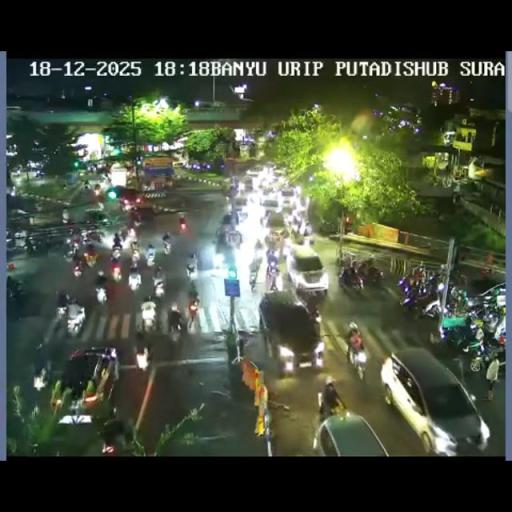Car: (383, 346, 490, 452), (258, 290, 324, 374), (56, 347, 118, 411), (313, 412, 391, 454), (286, 244, 326, 298), (264, 210, 286, 236), (260, 190, 282, 212), (218, 212, 238, 234), (231, 187, 249, 208), (279, 187, 296, 209), (246, 166, 262, 182), (272, 168, 286, 184)
Motorcycle: (88, 279, 198, 344), (74, 226, 170, 286), (400, 273, 442, 317), (462, 329, 504, 372), (100, 418, 132, 454), (318, 392, 348, 422), (347, 341, 367, 379), (339, 266, 364, 294), (448, 286, 470, 316), (66, 305, 86, 336), (463, 300, 491, 322), (362, 264, 385, 289), (266, 248, 279, 289), (140, 303, 157, 333), (214, 232, 232, 259), (6, 275, 25, 300), (186, 297, 200, 329), (134, 345, 150, 371), (449, 267, 467, 290), (312, 339, 326, 367), (492, 309, 506, 337), (128, 237, 142, 264), (56, 290, 70, 317), (168, 316, 182, 342), (33, 366, 48, 390), (127, 269, 142, 291), (152, 272, 165, 296), (290, 208, 304, 230), (95, 283, 108, 305), (411, 264, 424, 286), (110, 258, 122, 281), (84, 249, 98, 268), (186, 261, 198, 281), (6, 236, 18, 256), (229, 229, 242, 247), (85, 230, 103, 243), (72, 258, 84, 277), (302, 231, 316, 247), (282, 241, 294, 259), (254, 241, 264, 261), (63, 246, 75, 262), (145, 248, 155, 266), (248, 271, 257, 291), (236, 209, 248, 224), (25, 237, 35, 254), (142, 292, 156, 304), (162, 238, 172, 254), (94, 186, 104, 202), (481, 266, 493, 278), (127, 226, 137, 240), (112, 240, 122, 253), (120, 199, 130, 212), (178, 214, 186, 230), (71, 237, 80, 251), (86, 163, 96, 173), (133, 217, 142, 228), (8, 186, 17, 196), (120, 230, 126, 242), (83, 184, 90, 191)
